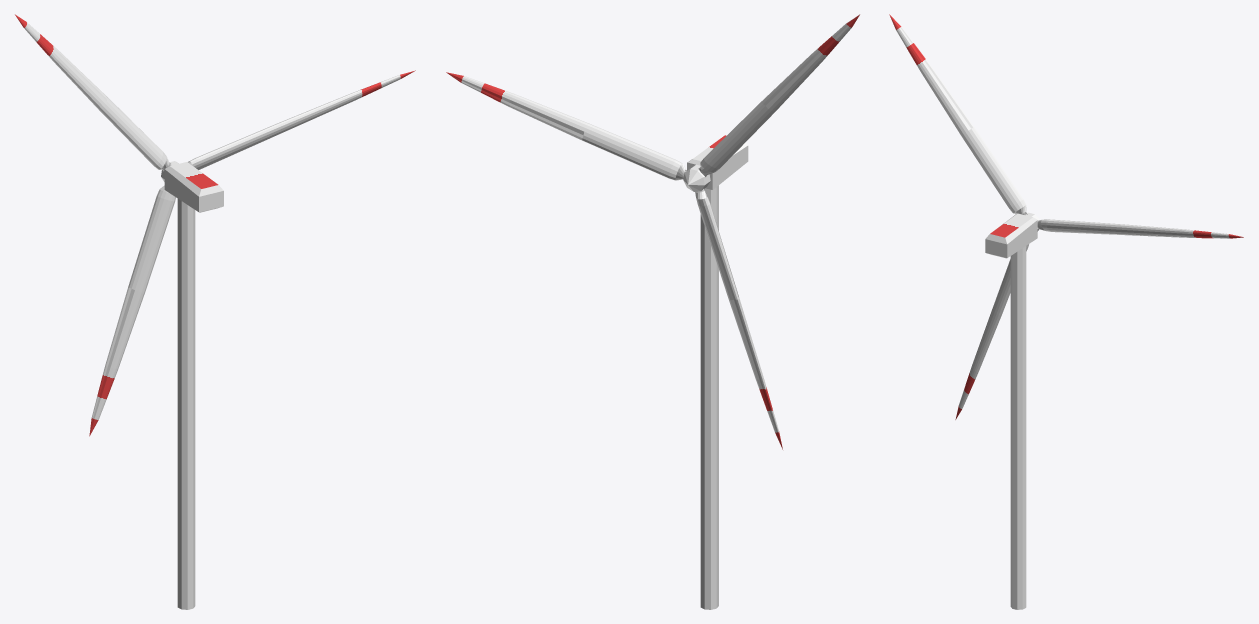
The model's file is wind_turbine.glb.
3 views of the same model, side by side, from view 1: azimuth 30°, elevation 25°; view 2: azimuth 150°, elevation 25°; view 3: azimuth 330°, elevation 25° (orthographic). The views are drawn at different scales.
Parts seen in each view (by area): view 1: Object_2; view 2: Object_2; view 3: Object_2.
Boxes of the visible parts, bbox=[...] form: Object_2: bbox=[15, 14, 415, 609]; Object_2: bbox=[446, 14, 859, 609]; Object_2: bbox=[889, 14, 1243, 609].
Bounding box in the file's own units: 2.53 × 3.73 × 0.5.
Materials: 1 (1 with a texture image).
